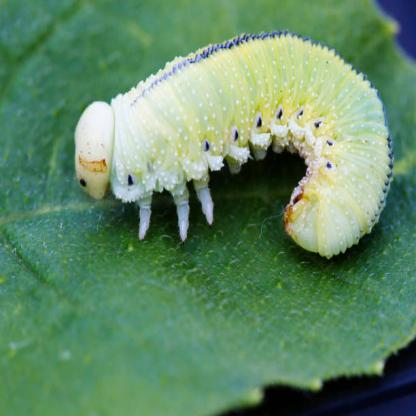sawfly: (66, 23, 400, 266)
